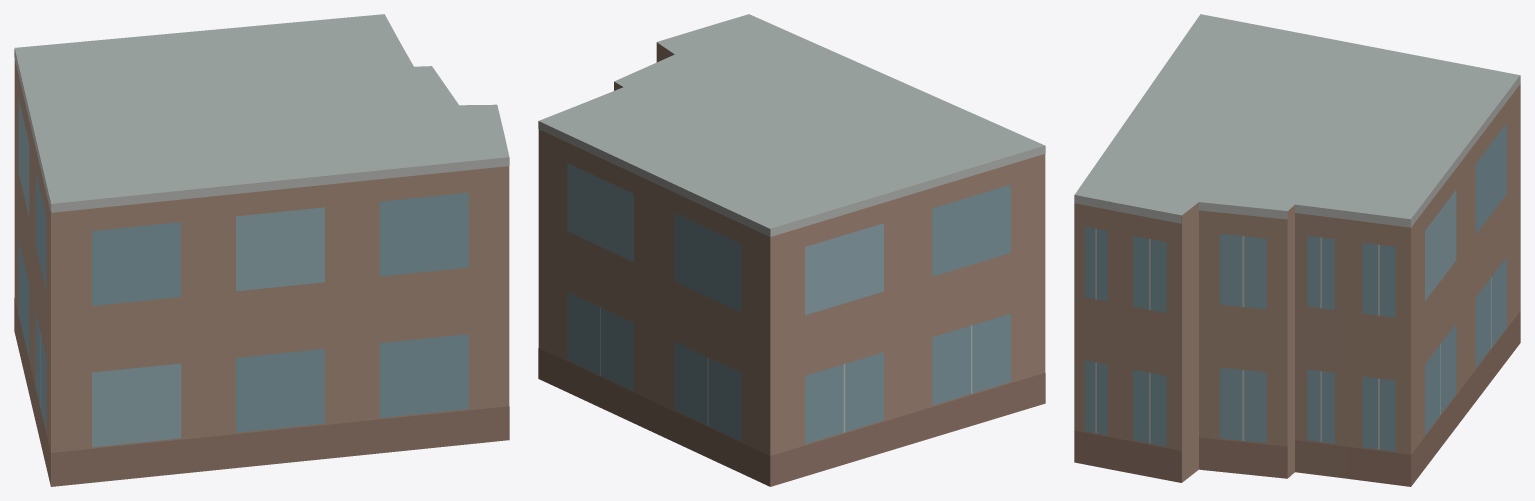
File: survey-upis-32498931.glb
3 views of the same model, side by side, from view 1: azimuth 30°, elevation 25°; view 2: azimuth 150°, elevation 25°; view 3: azimuth 270°, elevation 25° (orthographic). The views are drawn at different scales.
Parts seen in each view (by area): view 1: survey-upis-32498931.tmp; view 2: survey-upis-32498931.tmp; view 3: survey-upis-32498931.tmp.
Boxes of the visible parts, x1,y1,x2,y2 form: survey-upis-32498931.tmp: (14, 14, 509, 486); survey-upis-32498931.tmp: (538, 14, 1045, 486); survey-upis-32498931.tmp: (1074, 14, 1520, 486).
Size of the model in its own units: 12.85 by 7.8 by 11.8.
